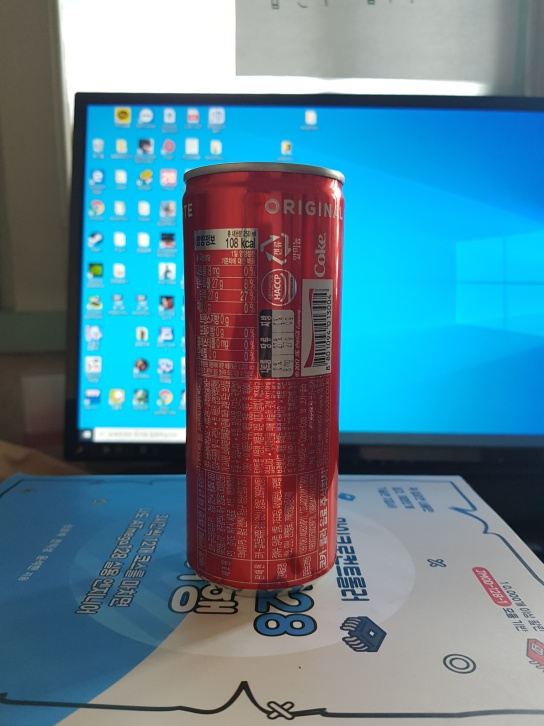Can: (180, 161, 346, 592)
